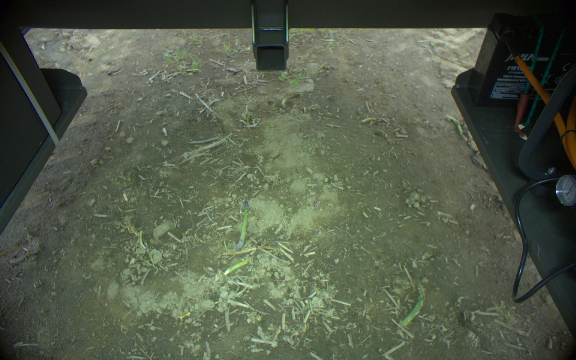aspa: (399, 282, 425, 327), (234, 199, 250, 254), (223, 259, 248, 277)
